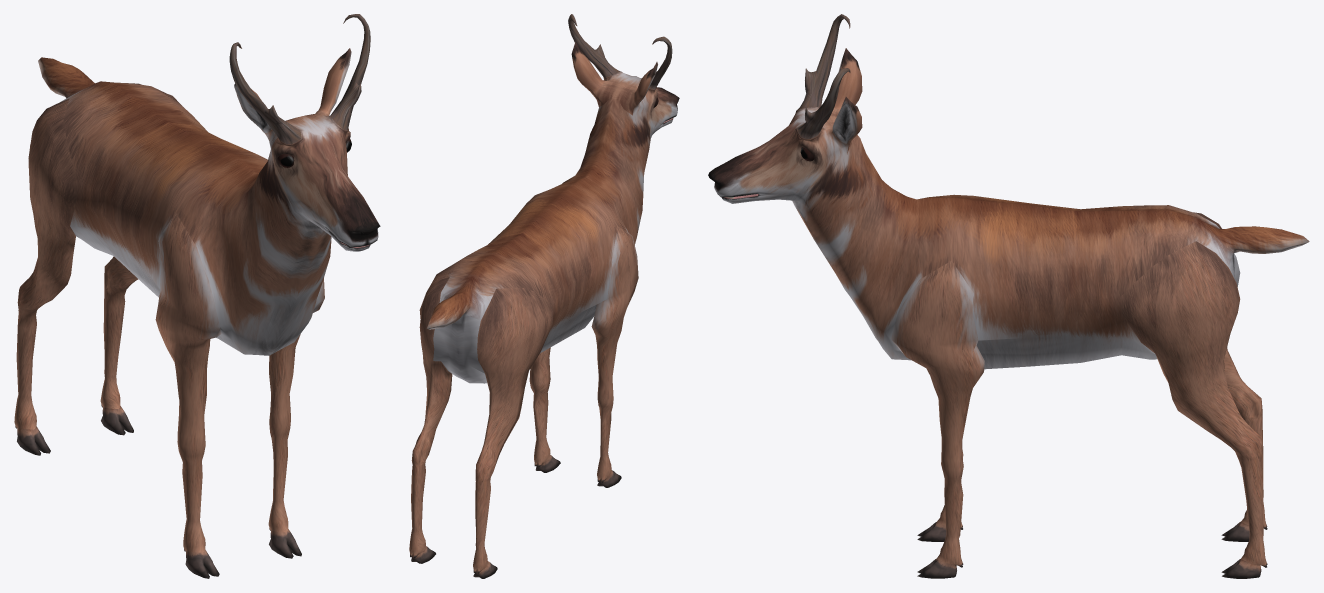
3 views of the same model, side by side, from view 1: azimuth 30°, elevation 25°; view 2: azimuth 150°, elevation 25°; view 3: azimuth 270°, elevation 25° (orthographic). The views are drawn at different scales.
Visible parts, largest first — view 1: Pronghorn; view 2: Pronghorn; view 3: Pronghorn.
Part boxes in pixels (box(x1,y1,x2,y2)): Pronghorn: box(14, 14, 380, 578); Pronghorn: box(409, 14, 679, 578); Pronghorn: box(708, 14, 1309, 578).
Bounding box in the file's own units: 18.63 × 67.43 × 71.54.
1 material, 1 textured.
